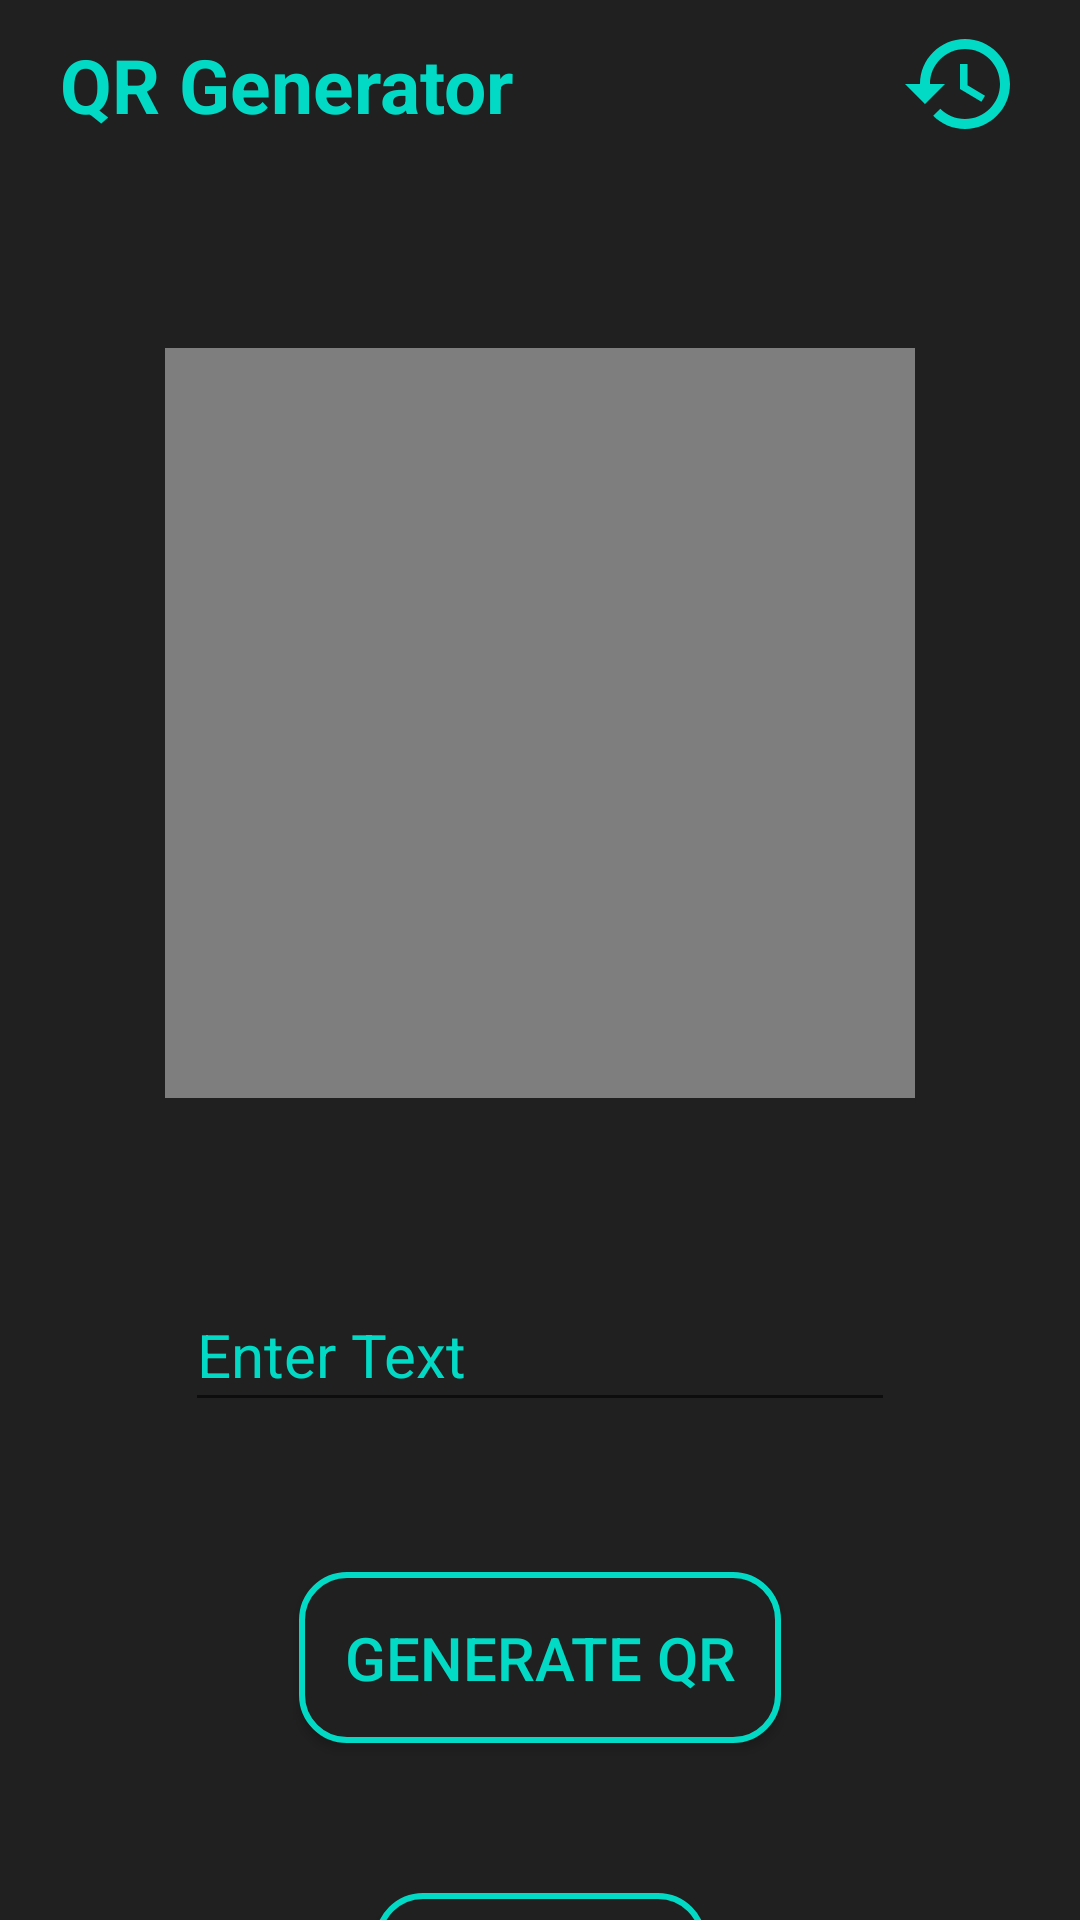

Screen size 1080×1920. Icon name, then its center in pixels as (x=x, y=y):
history: (x=957, y=84)
